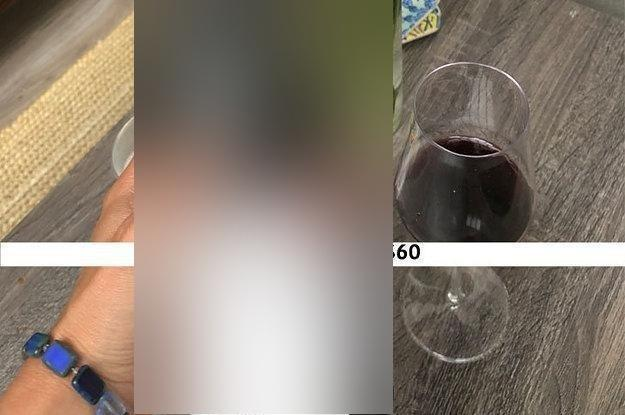glass-wine: (393, 60, 539, 361)
